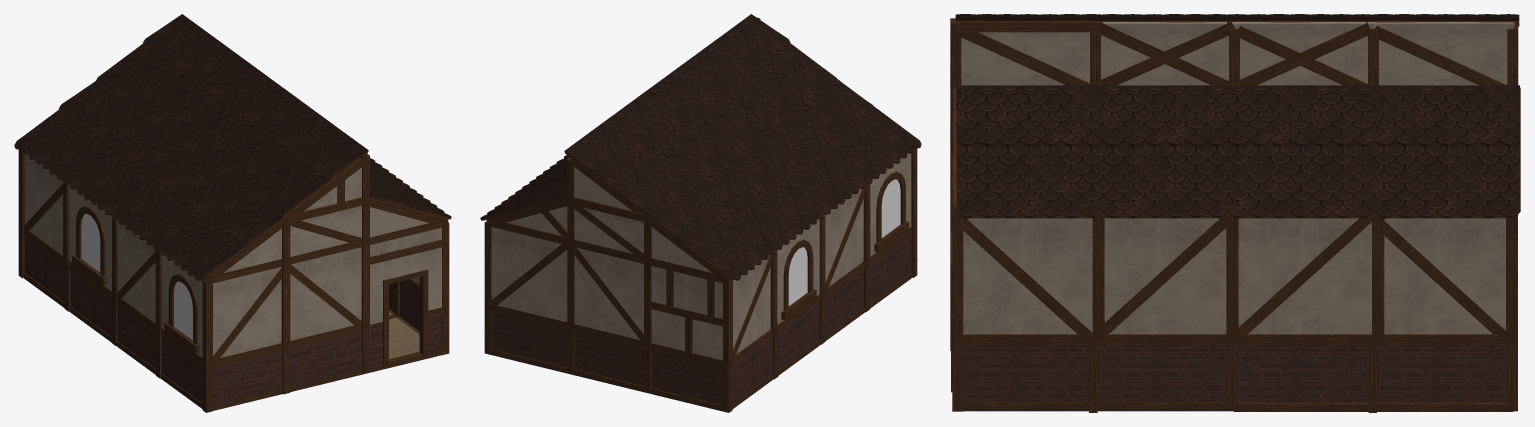
File: House_Nara.fbx
3 renders of one model, left to right at view 1: azimuth 30°, elevation 25°; view 2: azimuth 150°, elevation 25°; view 3: azimuth 270°, elevation 25°, orthographic. The views are drawn at different scales.
Visible parts, largest first — view 1: Plane.1096; view 2: Plane.1096; view 3: Plane.1096.
Boxes of the visible parts, x1,y1,x2,y2 form: Plane.1096: [14, 14, 451, 412]; Plane.1096: [480, 14, 921, 412]; Plane.1096: [950, 14, 1520, 412].
Bounding box in the file's own units: 6.4 × 8.12 × 5.3.
Materials: 6 (5 with a texture image).
